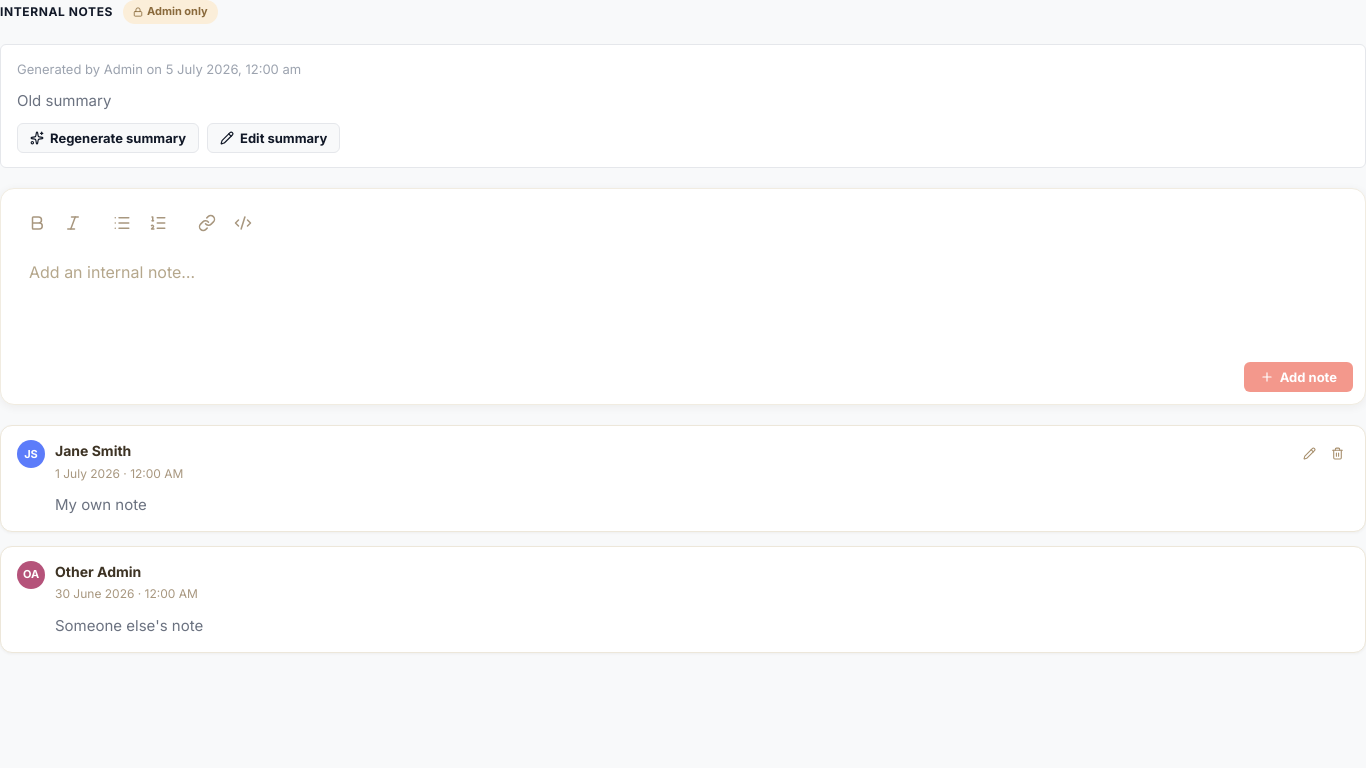
Test case: InternalNotesLog › marks the summary stale after deleting a note, even with no newer note
The width and height of the screenshot is (1366, 768).
Expected: the text "My own note" is shown, left=55, top=495, right=147, bottom=514
Expected: the text "New notes since this summary" is not shown
What coordinates should you click on to do the following:
click the button named "Delete note"
I would click on:
 (1337, 453)
Its box is left=1325, top=441, right=1349, bottom=465.
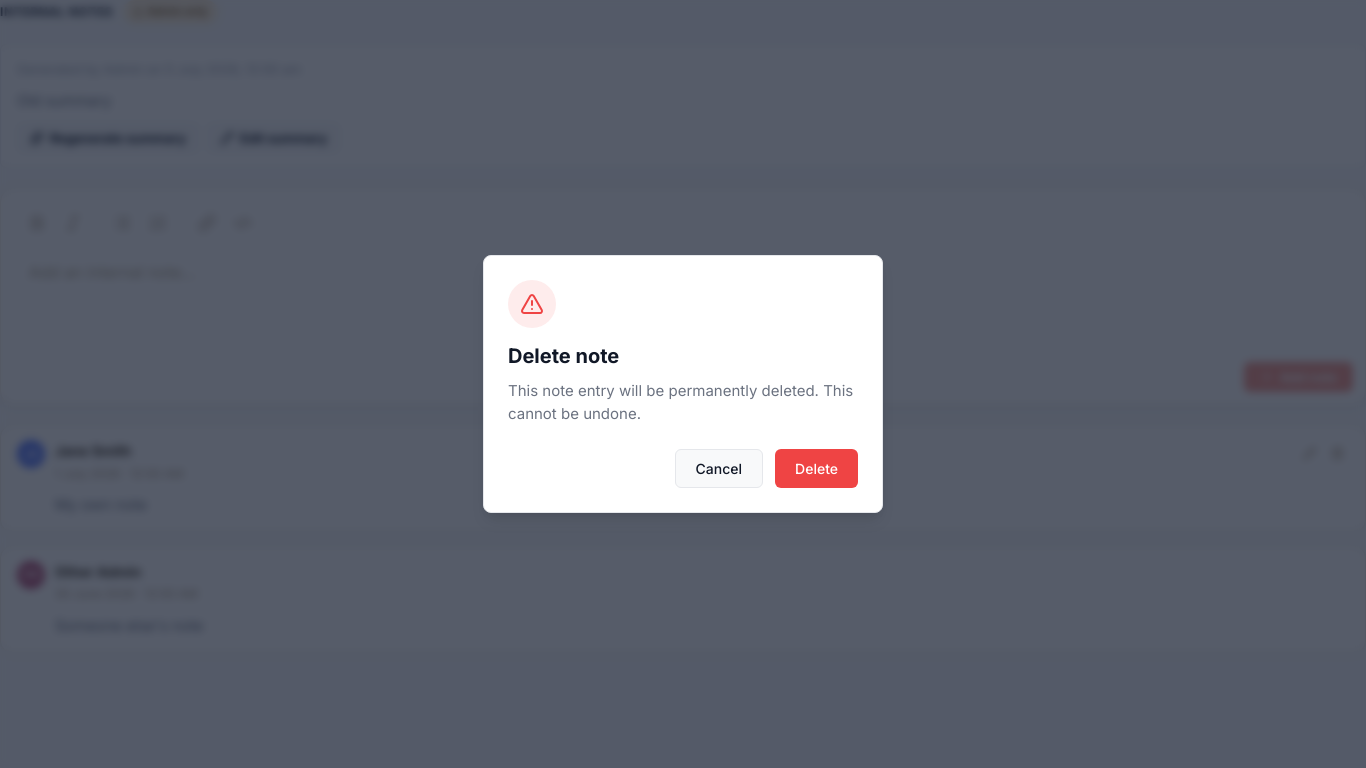
What coordinates should you click on to do the following:
click the button "Delete"
I would click on:
 (817, 468)
Its box is left=775, top=449, right=858, bottom=488.
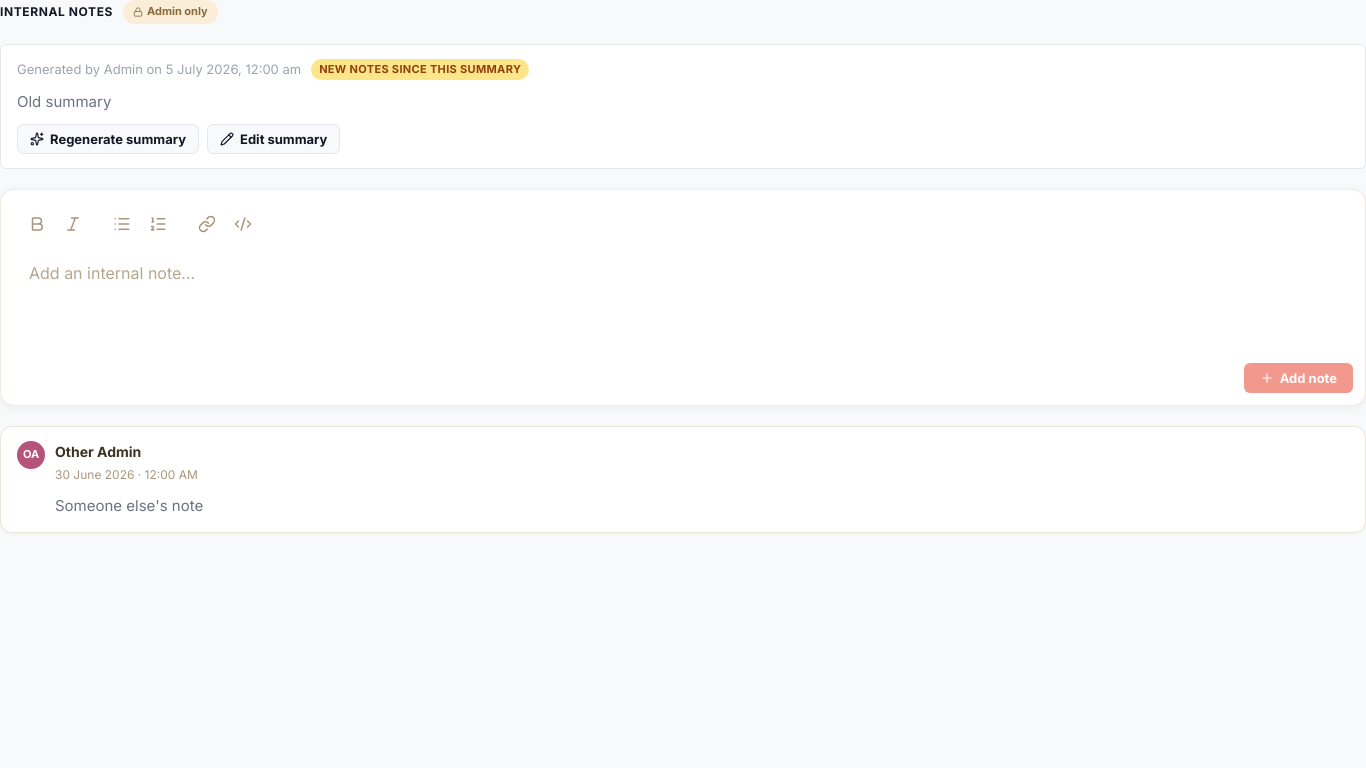
Expected: the text "New notes since this summary" is shown, left=311, top=59, right=529, bottom=80
